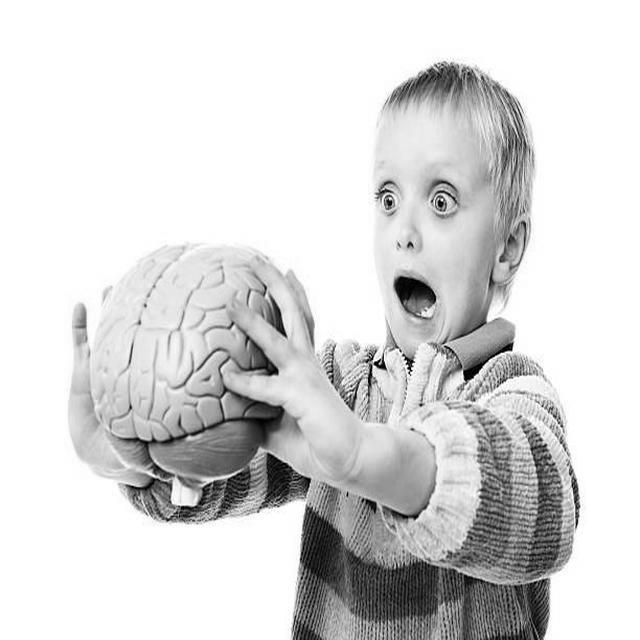Fear: (373, 104, 499, 359)
